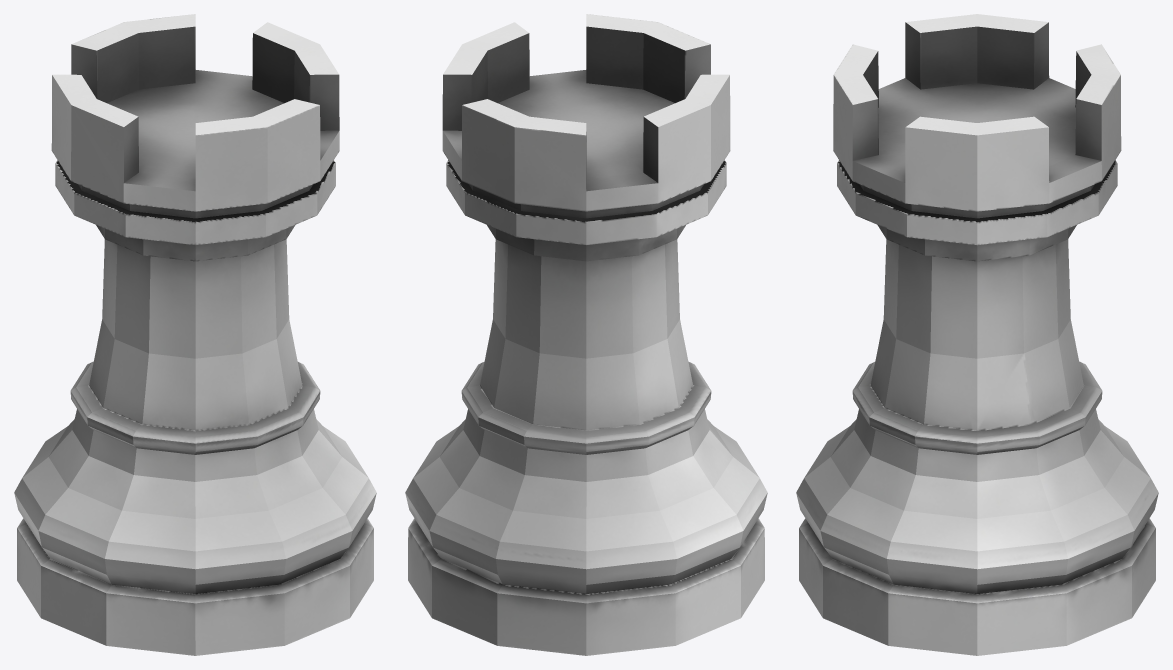
File: rook.obj
3 renders of one model, left to right at view 1: azimuth 30°, elevation 25°; view 2: azimuth 150°, elevation 25°; view 3: azimuth 270°, elevation 25°, orthographic.
Visible parts, largest first — view 1: ChessPieceRook1; view 2: ChessPieceRook1; view 3: ChessPieceRook1.
Boxes of the visible parts, x1,y1,x2,y2 form: ChessPieceRook1: (14, 14, 376, 655); ChessPieceRook1: (405, 14, 767, 655); ChessPieceRook1: (796, 14, 1158, 655).
Size of the model in its own units: 13.5 by 20.77 by 13.5.
1 material, 1 textured.
